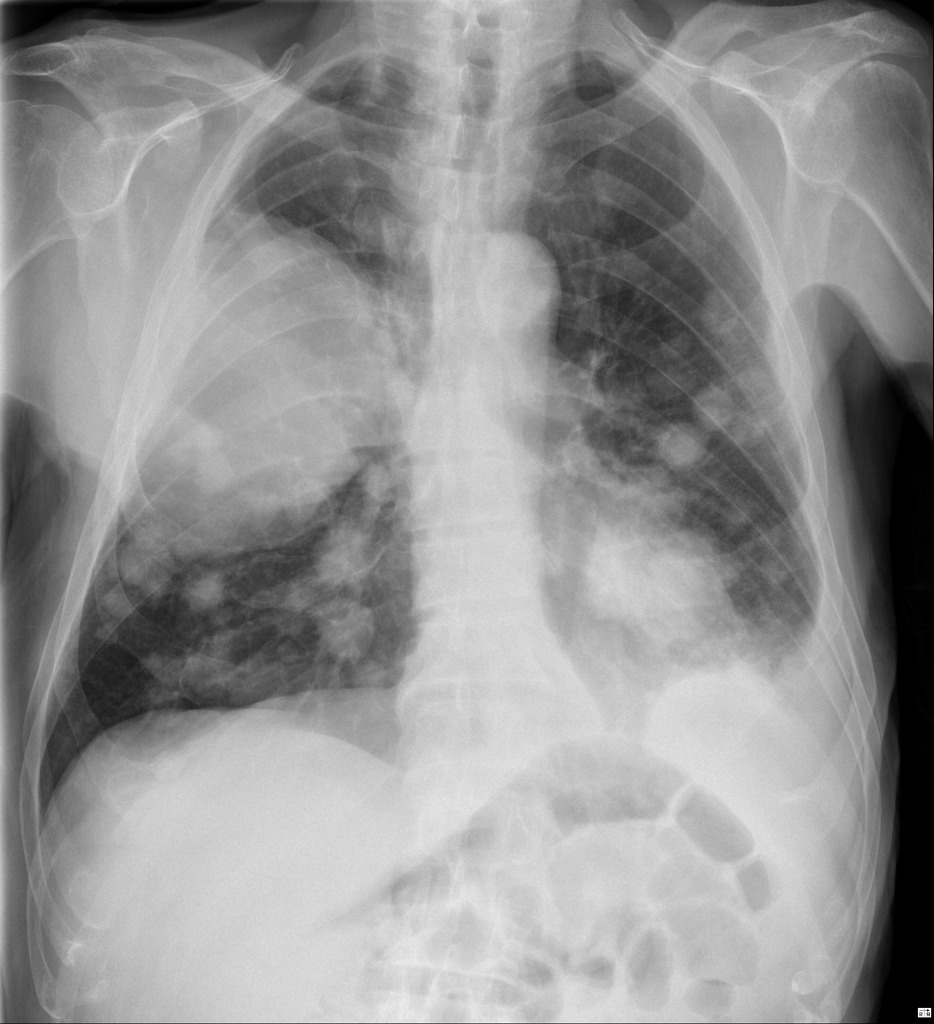cancer: (116, 204, 403, 761), (595, 244, 829, 574)
